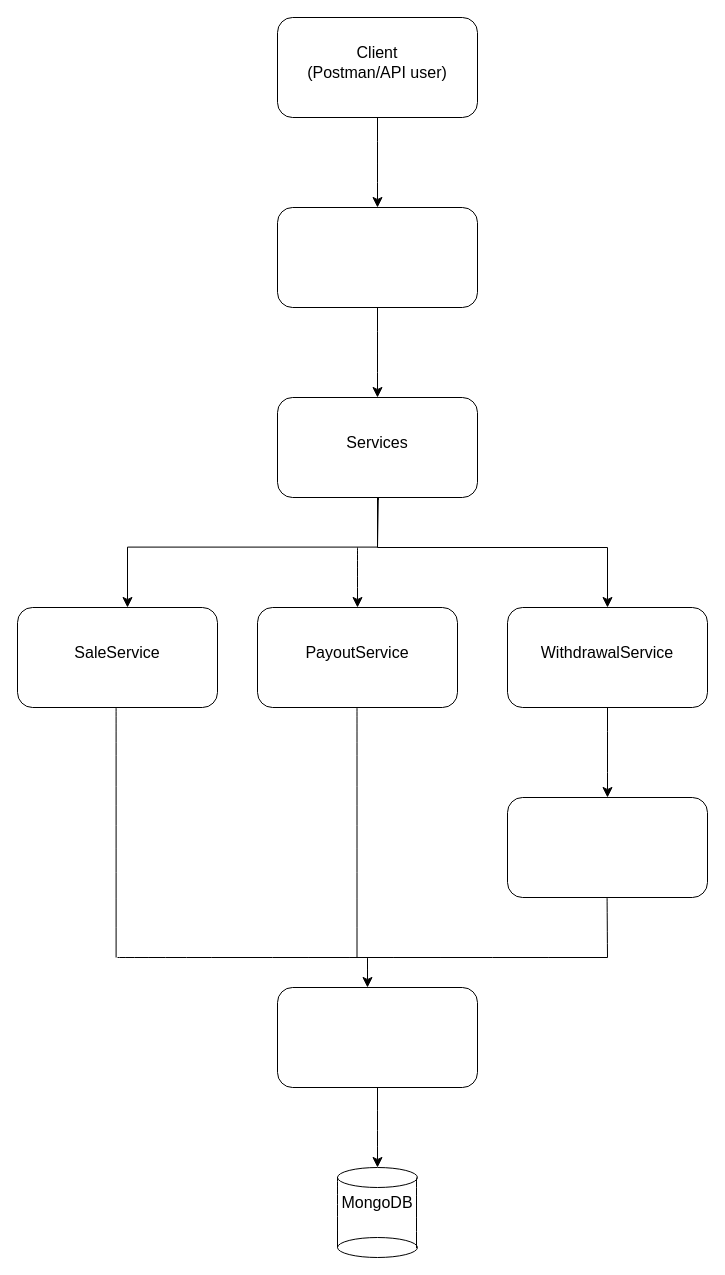
Some shapes in this 725 by 1275 pixel diagram are drawn without their labels. The shapes that lost their labels are listed below. From the top down, each one's centre as x and y in pixels, then its label:
the point at 377,257: Controllers
the point at 607,847: PayoutRecoveryService
the point at 377,1037: Repositories
